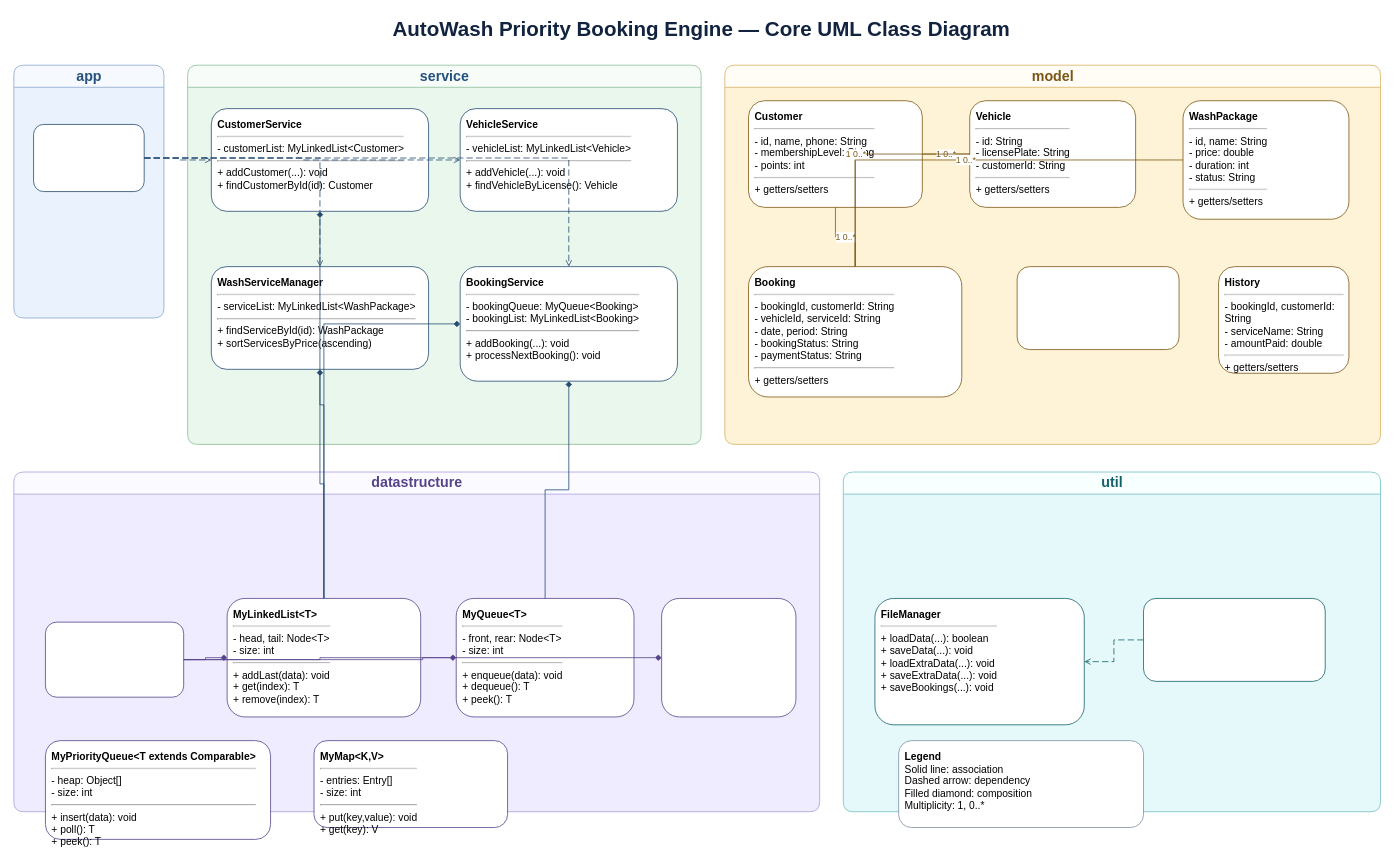
Some shapes in this 1394 by 862 pixel diagram are drawn without their labels. Each missing label, with the centre of its shape:
"DataSeeder + seed(customerService, washService, vehicleService)" goes at point 1234,639.
"Main + main(args: String[]): void" goes at point 88,158.
"MyStack<T> - top: Node<T> - size: int + push(data) + pop(): T + peek(): T" goes at point 728,657.
"Node<T> - data: T - next: Node<T>" goes at point 114,659.
"Period - date, periodName, status: String + isActive(): boolean" goes at point 1097,308.
